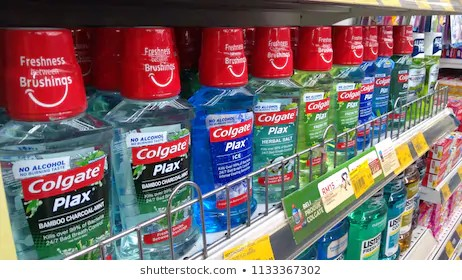colgate-Plax: (1, 20, 107, 260), (114, 24, 199, 256), (194, 21, 258, 232), (251, 26, 301, 209), (294, 25, 335, 180), (332, 23, 361, 167), (374, 23, 391, 144), (395, 23, 407, 134), (361, 24, 371, 153)
